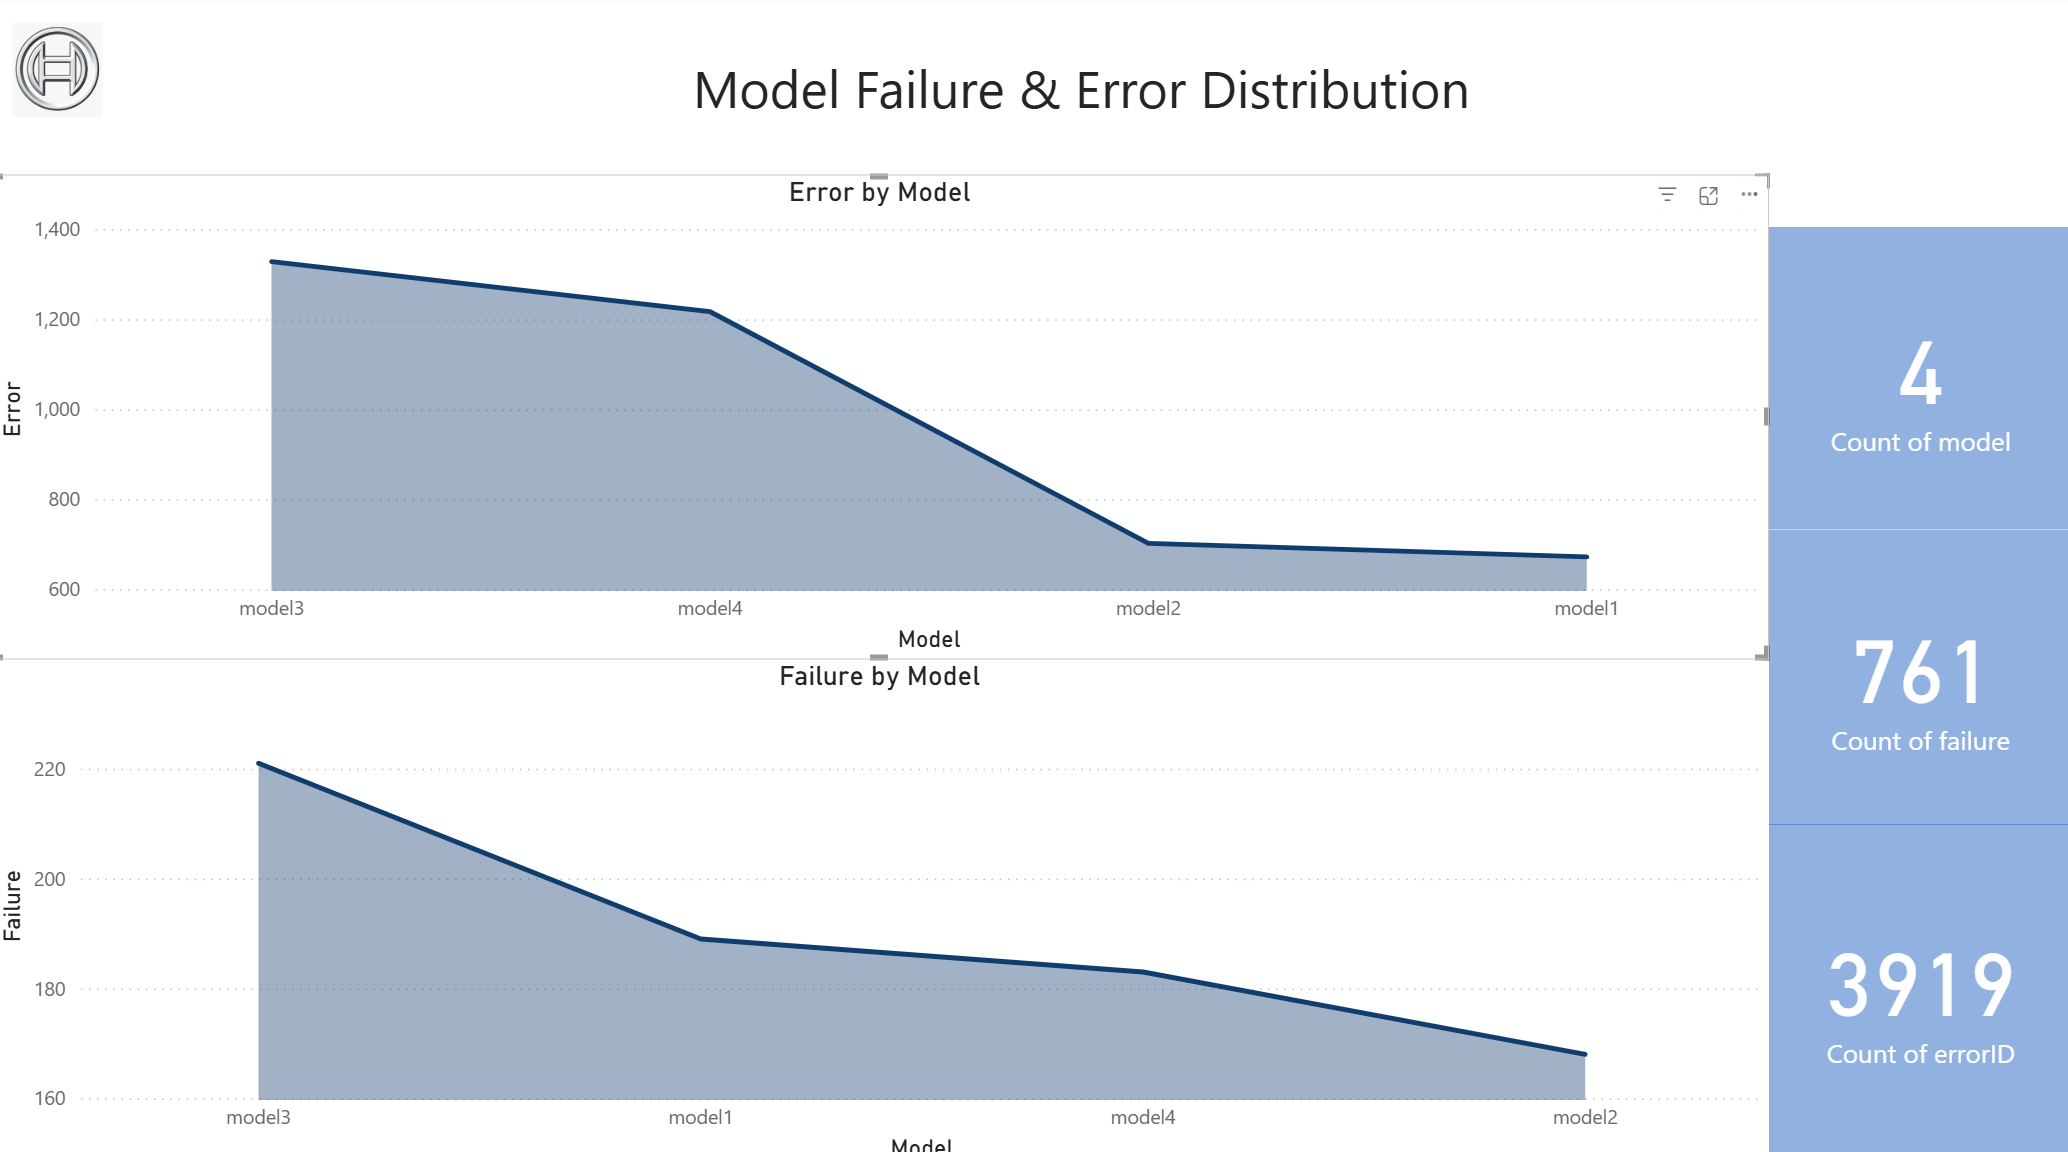

Layout of this report page (visuals, bound fields, positions):
{"tool":"powerbi","page":{"name":"Failures and Errors","canvas":[1280,720],"ordinal":3},"visuals":[{"type":"areaChart","fields":{"Category":["PdM_machines.model"],"Y":["CountNonNull(PdM_failures.failure)"]},"box":[0,407.3,1094.3,312.8],"z":0},{"type":"areaChart","fields":{"Category":["PdM_machines.model"],"Y":["CountNonNull(PdM_errors.errorID)"]},"box":[0,109.6,1094.3,297.7],"z":1000},{"type":"card","fields":{"Values":["CountNonNull(PdM_failures.failure)"]},"box":[1094.3,327.9,186.1,181],"z":2000},{"type":"card","fields":{"Values":["CountNonNull(PdM_errors.errorID)"]},"box":[1094.3,508.9,186.1,204.2],"z":3000},{"type":"card","fields":{"Values":["Count(PdM_machines.model)"]},"box":[1094.3,141.8,186.1,186.1],"z":4000},{"type":"image","box":[0,8,104.6,101.6],"z":5000},{"type":"textbox","box":[427.5,28.2,537.1,62.4],"z":6000}]}

Visuals, with their boxes in screenshot pixels (x1, y1, x2, y2), scaled from the page's 1280x720 canvas onto the 2068x1152 screenshot:
areaChart - PdM_machines.model x CountNonNull(PdM_failures.failure): 0, 652, 1768, 1151
areaChart - PdM_machines.model x CountNonNull(PdM_errors.errorID): 0, 175, 1768, 652
card - CountNonNull(PdM_failures.failure): 1768, 525, 2067, 814
card - CountNonNull(PdM_errors.errorID): 1768, 814, 2067, 1141
card - Count(PdM_machines.model): 1768, 227, 2067, 525
image: 0, 13, 169, 175
textbox: 691, 45, 1558, 145
